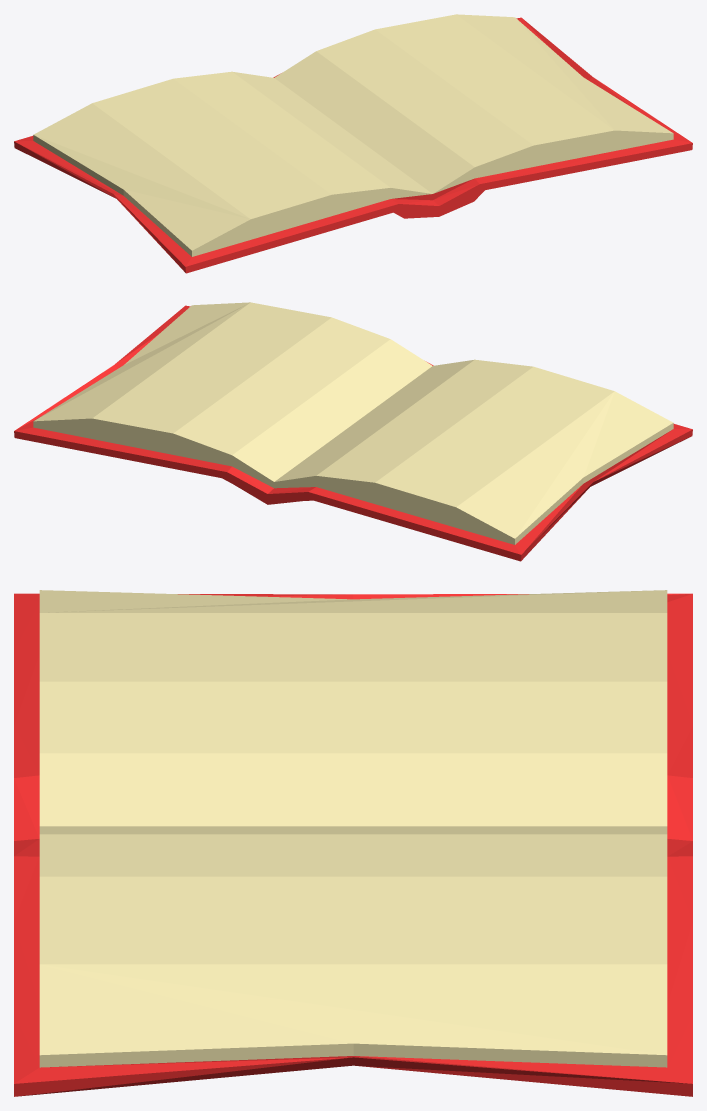
Rendered from open_book_r.fbx.
3 views of the same model, one above another, from view 1: azimuth 30°, elevation 25°; view 2: azimuth 150°, elevation 25°; view 3: azimuth 270°, elevation 25° (orthographic). The views are drawn at different scales.
Visible parts, largest first — view 1: Box001; view 2: Box001; view 3: Box001.
Boxes of the visible parts, x1=… form: Box001: x1=14, y1=14, x2=692, y2=273; Box001: x1=14, y1=302, x2=692, y2=561; Box001: x1=14, y1=590, x2=692, y2=1096.
Bounding box in the file's own units: 295 × 23.34 × 173.
